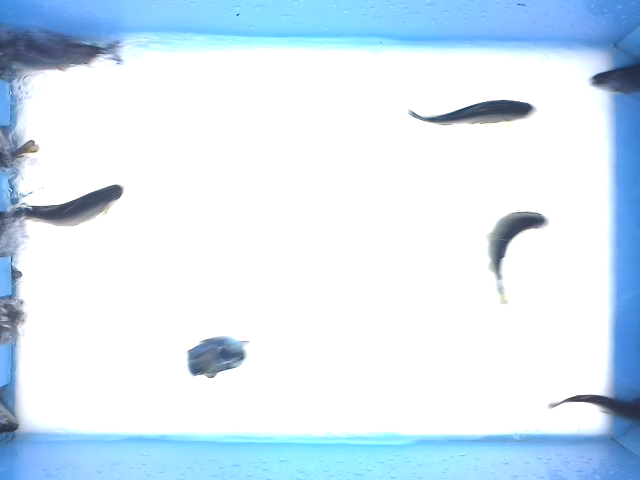fish: (485, 208, 552, 306), (3, 182, 125, 230), (406, 99, 538, 128), (184, 335, 250, 381)
